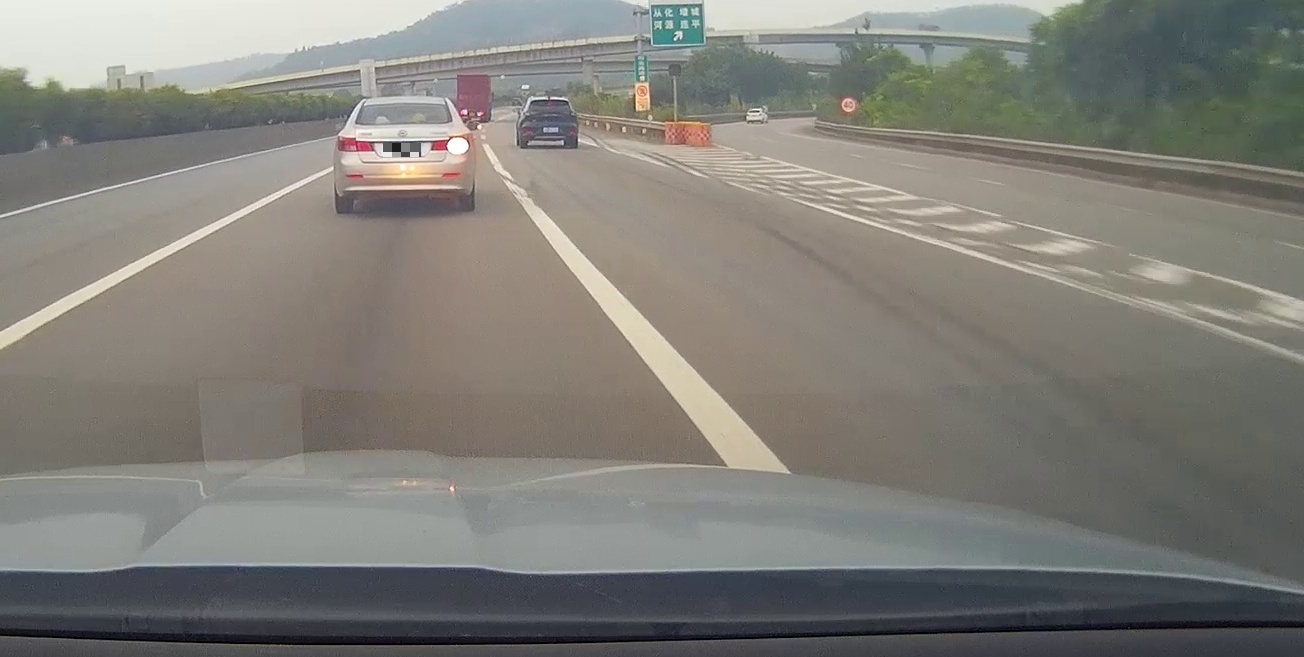L_light: (336, 135, 375, 152), (523, 111, 537, 116)
R_light: (430, 132, 473, 150), (564, 111, 577, 116)
T_light: (392, 122, 417, 124), (545, 100, 553, 102)
day-no: (519, 96, 578, 148)
day-right: (333, 96, 476, 215)
plate_1: (383, 143, 421, 157)
